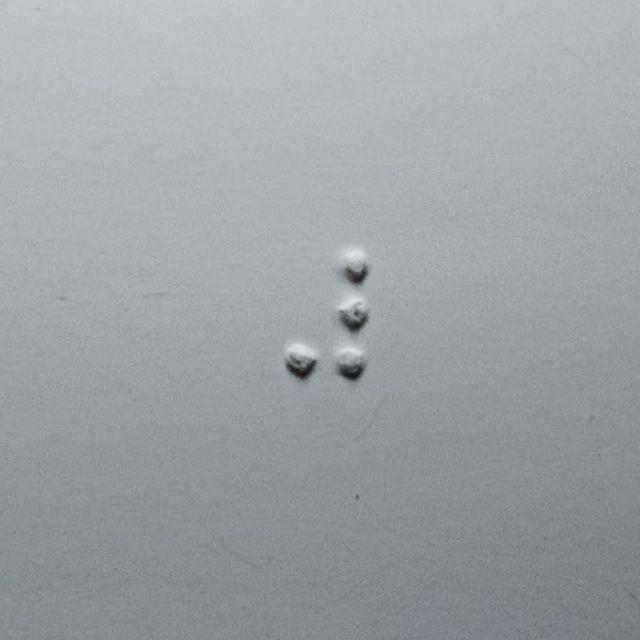at: (285, 249, 372, 382)
